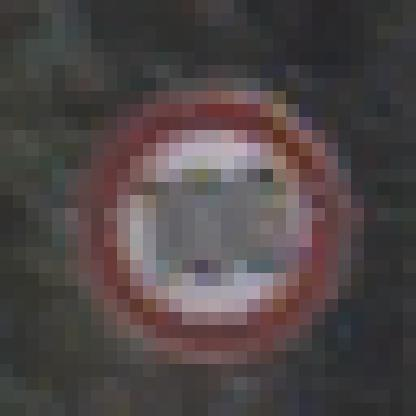Speed Limit 100: (81, 93, 350, 364)
